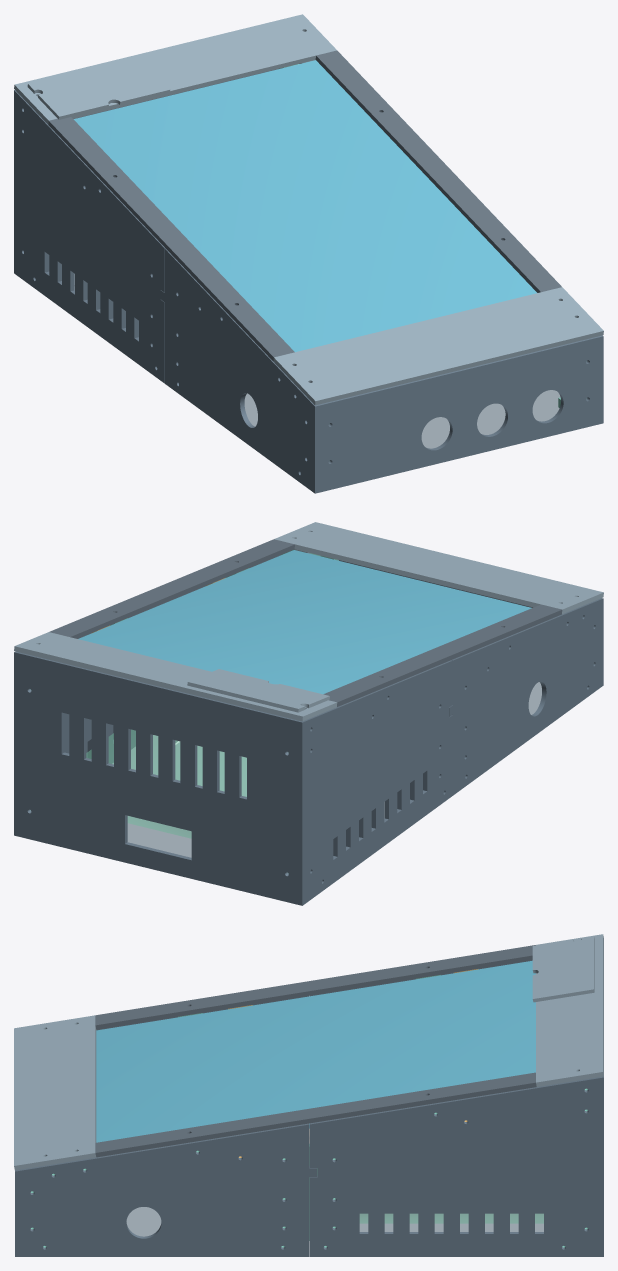
The model's file is cabinet-v1_7.glb.
The picture shows the model from 3 angles, top to bottom: view 1: azimuth 30°, elevation 25°; view 2: azimuth 150°, elevation 25°; view 3: azimuth 270°, elevation 25°; orthographic projection. The views are drawn at different scales.
Parts seen in each view (by area): view 1: REFERENCE_Monitor, left_rear_wall, front_button_panel, left_front_wall, front_cable_lid, rear_control_deck, bezel_right_a1_a2, bezel_left_one_piece, control_hatch, bottom_front; view 2: rear_vent_panel, REFERENCE_Monitor, left_rear_wall, left_front_wall, front_cable_lid, rear_control_deck, bezel_right_a1_a2, bezel_left_one_piece, bottom_rear, control_hatch, REFERENCE_Dell_3050, right_rear_wall; view 3: REFERENCE_Monitor, right_rear_wall, right_front_wall, front_cable_lid, bezel_right_a1_a2, bezel_left_one_piece, rear_control_deck, control_hatch, bottom_rear, bottom_front, REFERENCE_Dell_3050.
Part boxes in pixels (x1=…): REFERENCE_Monitor: x1=73, y1=60, x2=536, y2=352; left_rear_wall: x1=14, y1=90, x2=164, y2=383; front_button_panel: x1=319, y1=336, x2=598, y2=492; left_front_wall: x1=160, y1=248, x2=319, y2=493; front_cable_lid: x1=273, y1=287, x2=603, y2=405; rear_control_deck: x1=14, y1=14, x2=336, y2=124; bezel_right_a1_a2: x1=315, y1=50, x2=561, y2=292; bezel_left_one_piece: x1=48, y1=117, x2=294, y2=360; control_hatch: x1=27, y1=56, x2=170, y2=119; bottom_front: x1=244, y1=390, x2=560, y2=448; rear_vent_panel: x1=18, y1=652, x2=299, y2=904; REFERENCE_Monitor: x1=78, y1=550, x2=531, y2=694; left_rear_wall: x1=298, y1=660, x2=452, y2=905; left_front_wall: x1=449, y1=598, x2=603, y2=795; front_cable_lid: x1=274, y1=522, x2=603, y2=614; rear_control_deck: x1=14, y1=632, x2=337, y2=721; bezel_right_a1_a2: x1=49, y1=539, x2=294, y2=638; bezel_left_one_piece: x1=323, y1=604, x2=562, y2=706; bottom_rear: x1=112, y1=735, x2=384, y2=857; control_hatch: x1=187, y1=669, x2=329, y2=712; REFERENCE_Dell_3050: x1=86, y1=729, x2=246, y2=838; right_rear_wall: x1=14, y1=601, x2=168, y2=836; REFERENCE_Monitor: x1=96, y1=960, x2=535, y2=1142; right_rear_wall: x1=309, y1=1076, x2=603, y2=1256; right_front_wall: x1=15, y1=1123, x2=316, y2=1256; front_cable_lid: x1=14, y1=1015, x2=96, y2=1170; bezel_right_a1_a2: x1=95, y1=1072, x2=536, y2=1157; bezel_left_one_piece: x1=95, y1=945, x2=535, y2=1029; rear_control_deck: x1=536, y1=934, x2=603, y2=1086; control_hatch: x1=532, y1=936, x2=594, y2=1002; bottom_rear: x1=359, y1=1213, x2=543, y2=1231; bottom_front: x1=126, y1=1207, x2=161, y2=1236; REFERENCE_Dell_3050: x1=359, y1=1213, x2=543, y2=1223.
Size of the model in its own units: 0.26 by 0.1646 by 0.4707.
